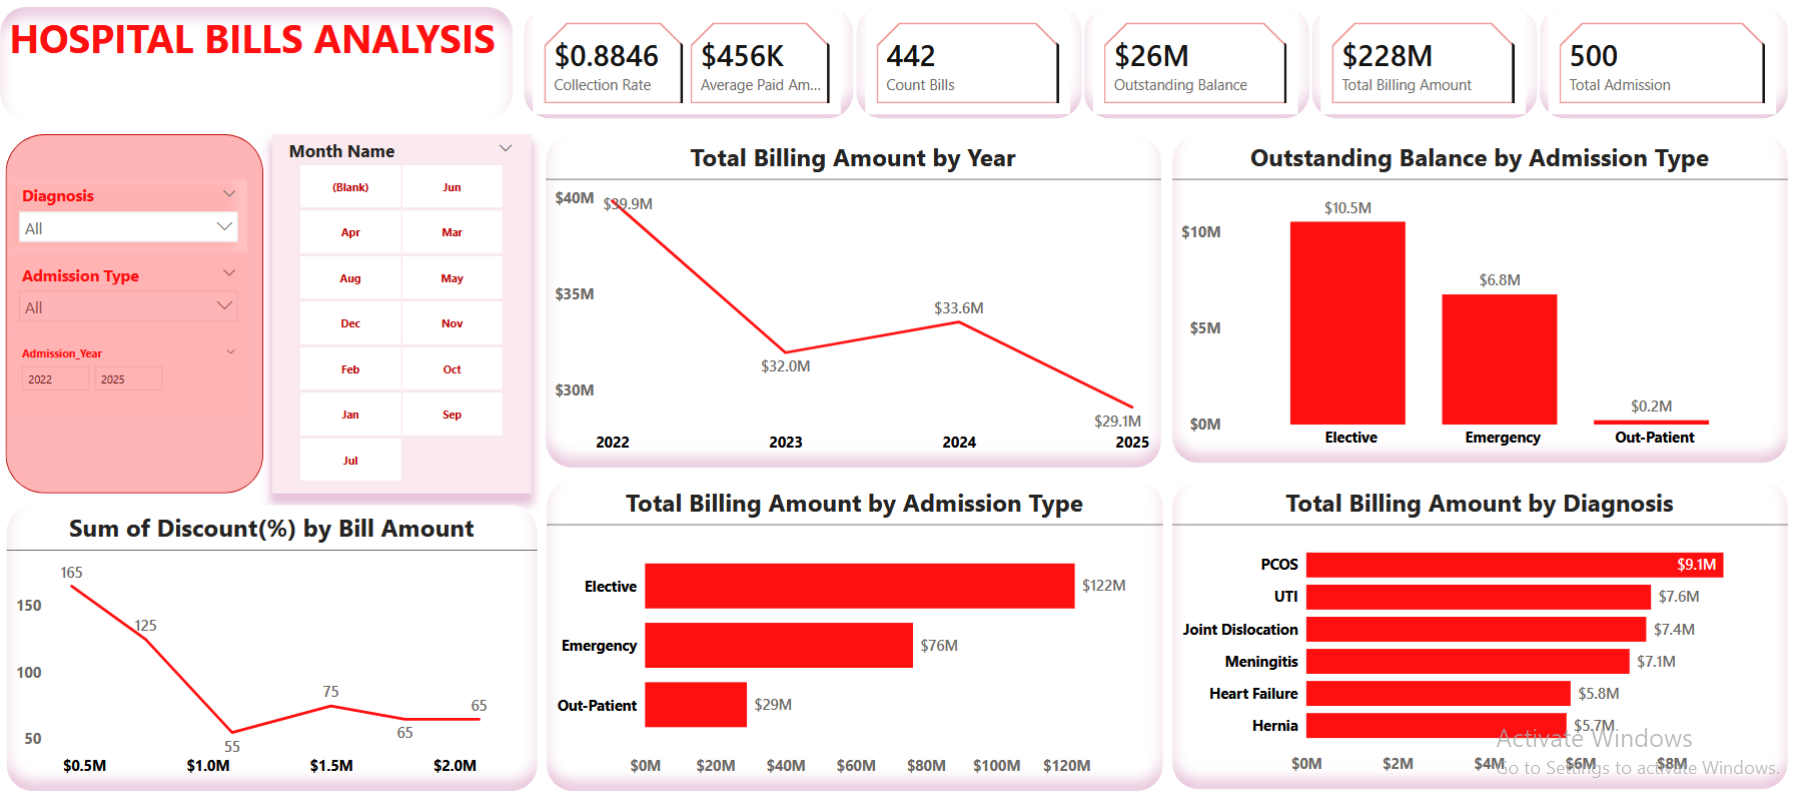

What the dashboard file says about the page in this screenshot:
{"tool":"powerbi","page":{"name":"Page 2","canvas":[2000,895],"ordinal":1},"visuals":[{"type":"cardVisual","fields":{"Data":["_measure.Total_Admission"]},"box":[1698.3,11.7,275,125],"z":0},{"type":"cardVisual","fields":{"Data":["_measure.Total Billing Amount"]},"box":[1448.3,11.7,250,125],"z":1000},{"type":"cardVisual","fields":{"Data":["_measure.Outstanding Balance"]},"box":[1198.3,11.7,250,125],"z":2000},{"type":"cardVisual","fields":{"Data":["_measure.Outstanding Balance"]},"box":[2080,450,850,360],"z":3000},{"type":"cardVisual","fields":{"Data":["_measure.Collection Rate","_measure.Average Paid Amount"]},"box":[583.3,11.7,363.3,125],"z":4000},{"type":"clusteredBarChart","fields":{"Category":["Admissions.Admission_Type"],"Y":["_measure.Total Billing Amount"]},"box":[608.3,531.7,678.3,343.3],"z":5000},{"type":"lineChart","fields":{"Category":["Billing.Year"],"Y":["_measure.Total Billing Amount"]},"box":[606.7,153.3,678.3,366.7],"z":6000},{"type":"columnChart","fields":{"Category":["Admissions.Admission_Type"],"Y":["_measure.Outstanding Balance"]},"box":[1295,153.3,678.3,361.7],"z":7000},{"type":"cardVisual","fields":{"Data":["_measure.Count Bills"]},"box":[948.3,11.7,250,125],"z":8000},{"type":"clusteredBarChart","fields":{"Category":["Admissions.Diagnosis"],"Y":["_measure.Total Billing Amount"]},"box":[1295,531.7,678.3,341.7],"z":9000},{"type":"slicer","fields":{"Values":["Admissions.Admission_Year"]},"box":[20,380,260,78.3],"z":10000},{"type":"slicer","fields":{"Values":["Admissions.Admission_Type"]},"box":[20,290,260,78.3],"z":11000},{"type":"slicer","fields":{"Values":["Billing.Month Name"]},"box":[308.3,153.3,283.3,393.3],"z":13000},{"type":"lineChart","fields":{"Category":["Billing.Bill_Amount_(NGN)_Updated"],"Y":["Sum(Billing.Discount_(%))"]},"box":[15,560,585,315],"z":14000},{"type":"textbox","box":[8.3,11.7,565,125],"z":15000},{"type":"shape","box":[15,153.3,283.3,393.3],"z":16000},{"type":"slicer","fields":{"Values":["Admissions.Diagnosis"]},"box":[20,203.3,260,78.3],"z":17000}]}

Visuals, with their boxes in screenshot pixels (x1, y1, x2, y2), scaled from the page's 2000x895 canvas onto the 1802x795 screenshot:
cardVisual - _measure.Total_Admission: bbox(1530, 10, 1778, 121)
cardVisual - _measure.Total Billing Amount: bbox(1305, 10, 1530, 121)
cardVisual - _measure.Outstanding Balance: bbox(1080, 10, 1305, 121)
cardVisual - _measure.Collection Rate x _measure.Average Paid Amount: bbox(526, 10, 853, 121)
clusteredBarChart - Admissions.Admission_Type x _measure.Total Billing Amount: bbox(548, 472, 1159, 777)
lineChart - Billing.Year x _measure.Total Billing Amount: bbox(547, 136, 1158, 462)
columnChart - Admissions.Admission_Type x _measure.Outstanding Balance: bbox(1167, 136, 1778, 457)
cardVisual - _measure.Count Bills: bbox(854, 10, 1080, 121)
clusteredBarChart - Admissions.Diagnosis x _measure.Total Billing Amount: bbox(1167, 472, 1778, 776)
slicer - Admissions.Admission_Year: bbox(18, 338, 252, 407)
slicer - Admissions.Admission_Type: bbox(18, 258, 252, 327)
slicer - Billing.Month Name: bbox(278, 136, 533, 486)
lineChart - Billing.Bill_Amount_(NGN)_Updated x Sum(Billing.Discount_(%)): bbox(14, 497, 541, 777)
textbox: bbox(7, 10, 517, 121)
shape: bbox(14, 136, 269, 486)
slicer - Admissions.Diagnosis: bbox(18, 181, 252, 250)
